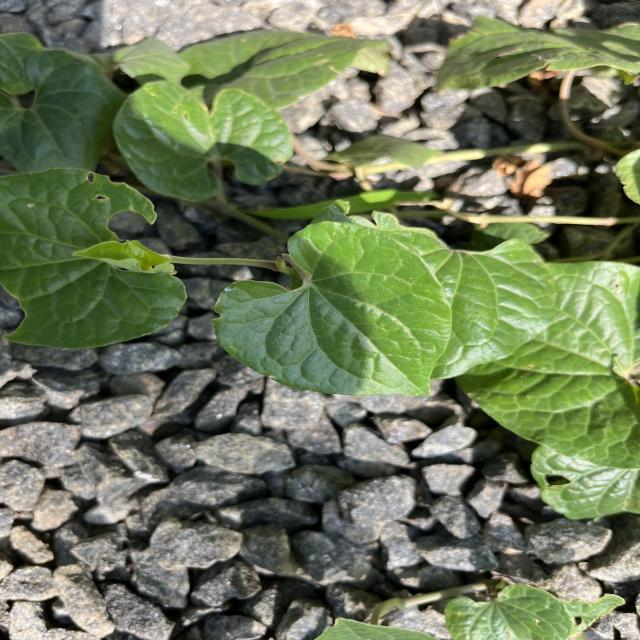Piper longum: (210, 218, 454, 400)
